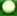white: (0, 0, 17, 16)
